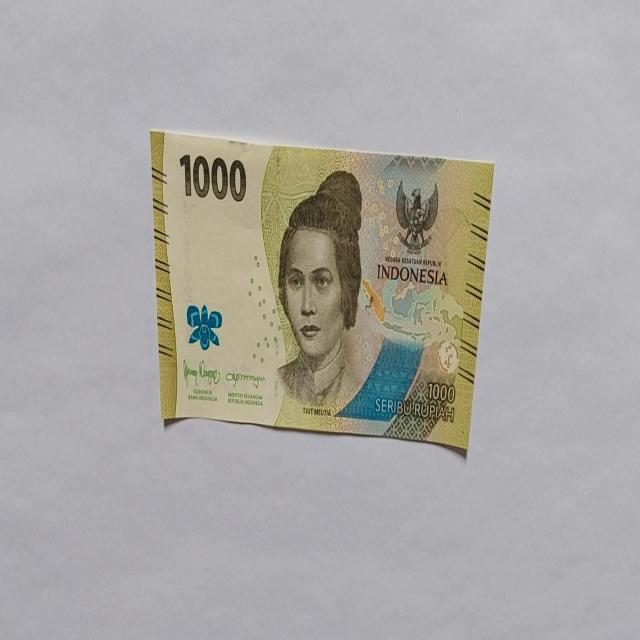seribu rupiah kertas: (150, 127, 494, 455)
